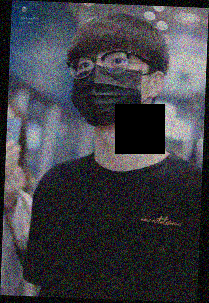with_mask: (70, 43, 156, 128)
